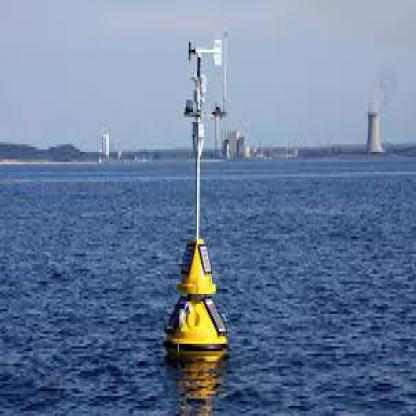buoy: (160, 20, 245, 379)
